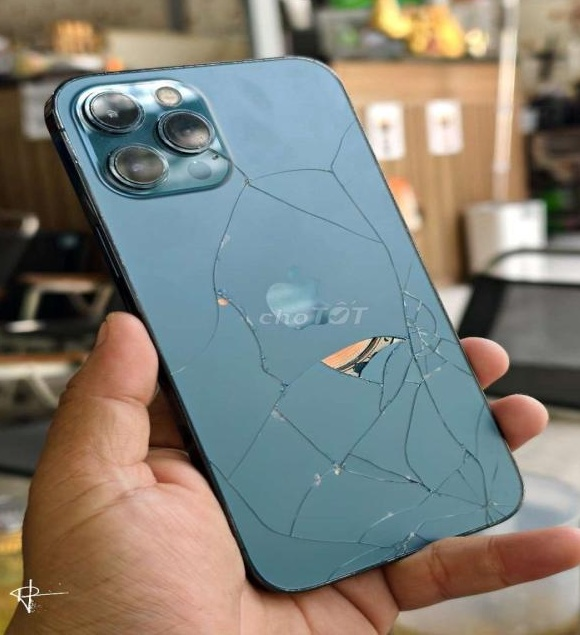physical_damage: (181, 92, 526, 583)
